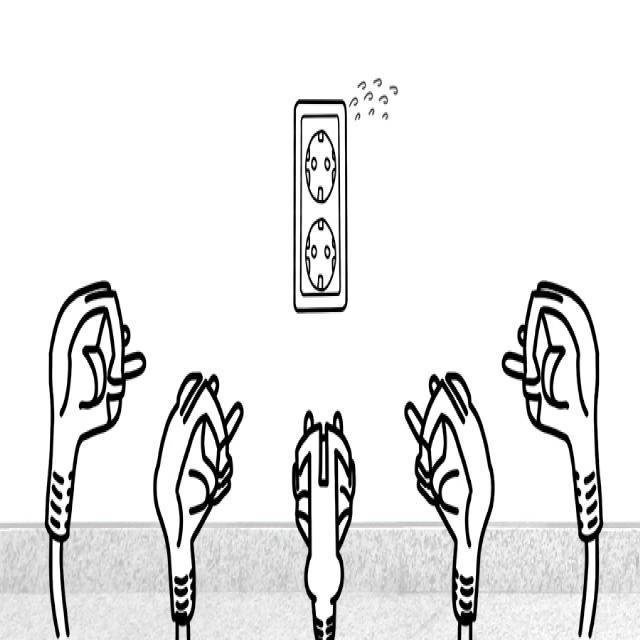typeb: (276, 79, 355, 342)
